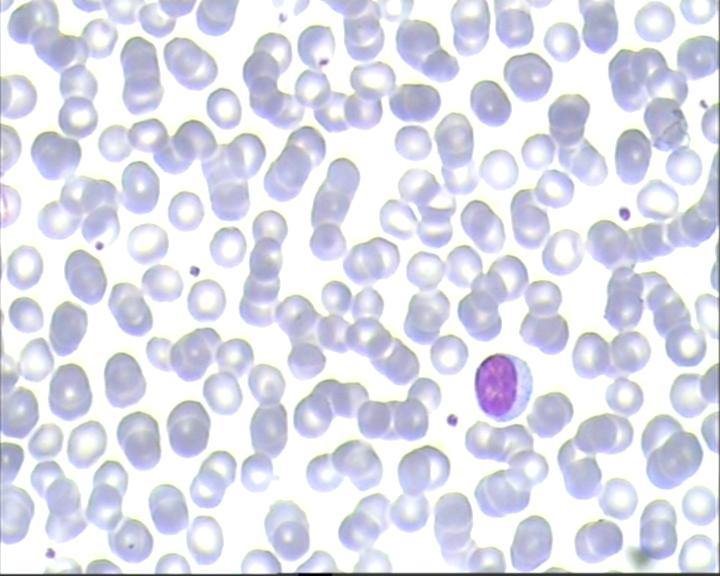lymp: (469, 347, 539, 426)
